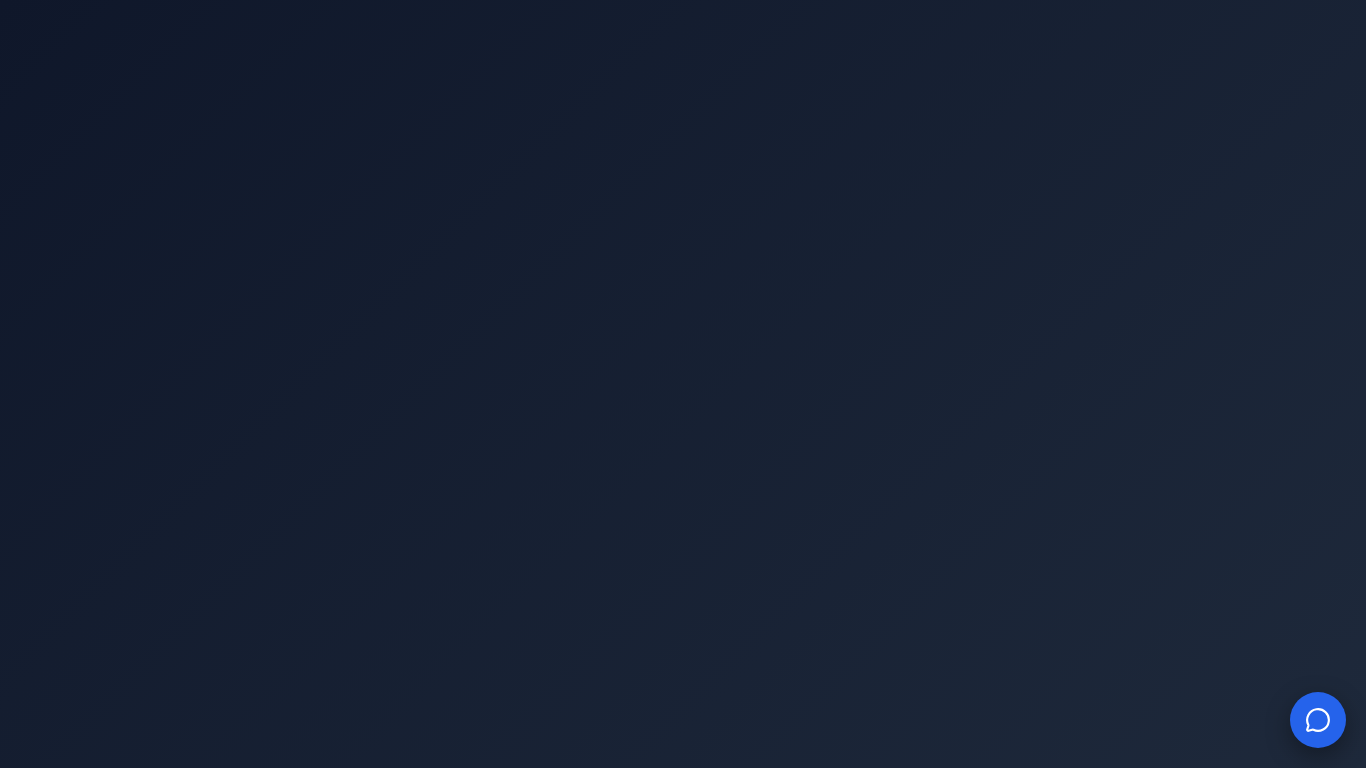
Test: ChatWidget › la burbuja abre el chat, enfoca el campo de texto y muestra sugerencias
The width and height of the screenshot is (1366, 768).
Step 1. Click the button named "Abrir el asistente del clima" → (1318, 720), box [1290,692,1346,748]
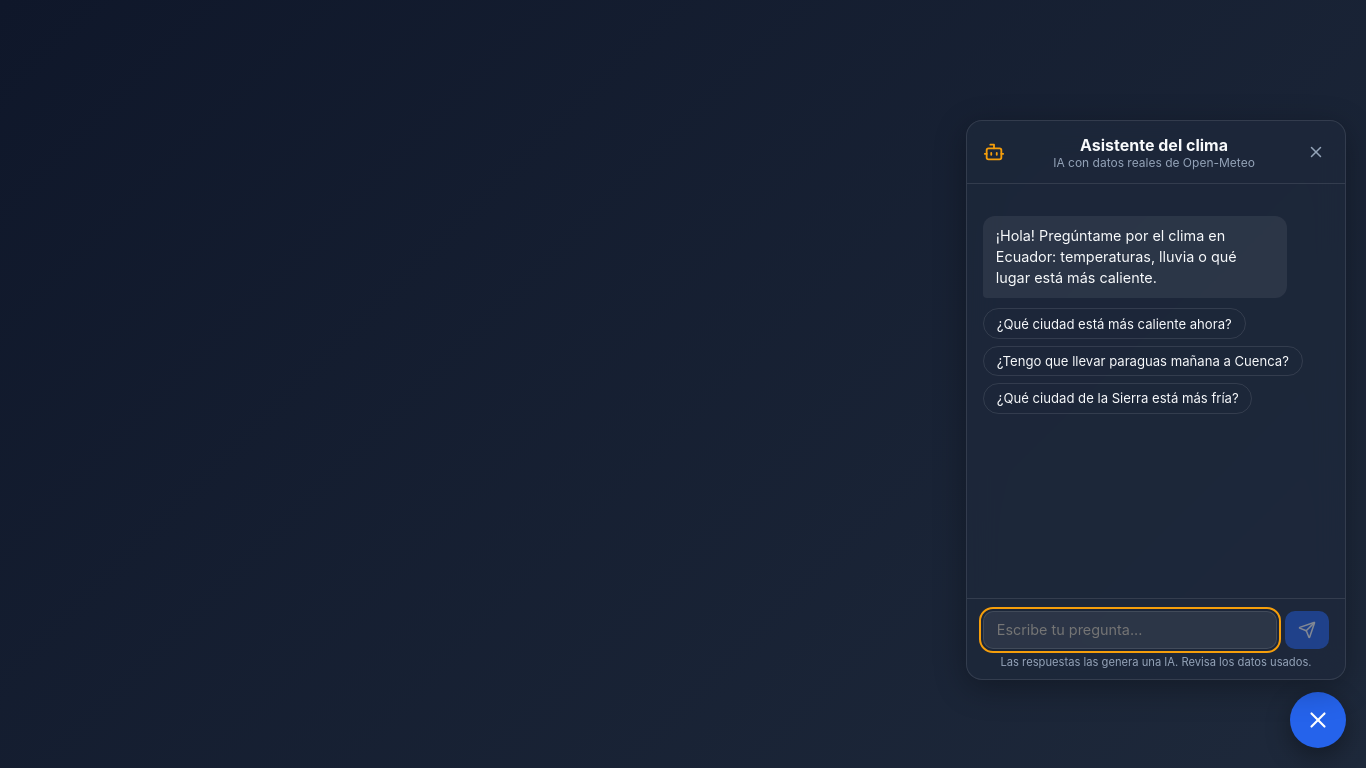
Expected: the dialog "Asistente del clima" is shown, [966,120,1346,680]
Expected: the button "¿Qué ciudad está más caliente ahora?" is shown, [983,308,1246,339]
